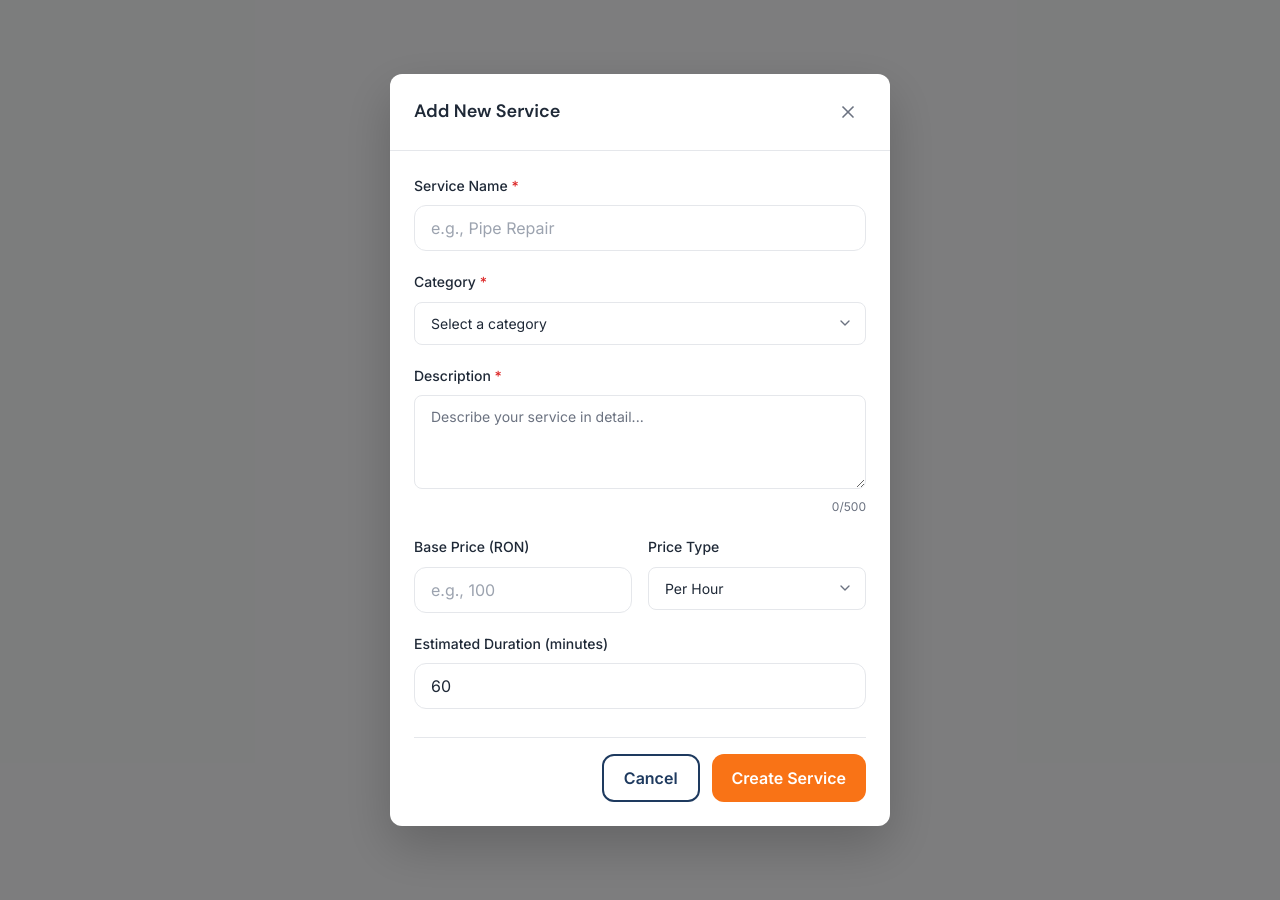
Test: ServiceModal – Create Mode › dezactiveaza butonul submit si afiseaza text de loading in timpul submit
Type "Test" into the field labelled "Service Name *" at (640, 228), box [415, 206, 865, 250]
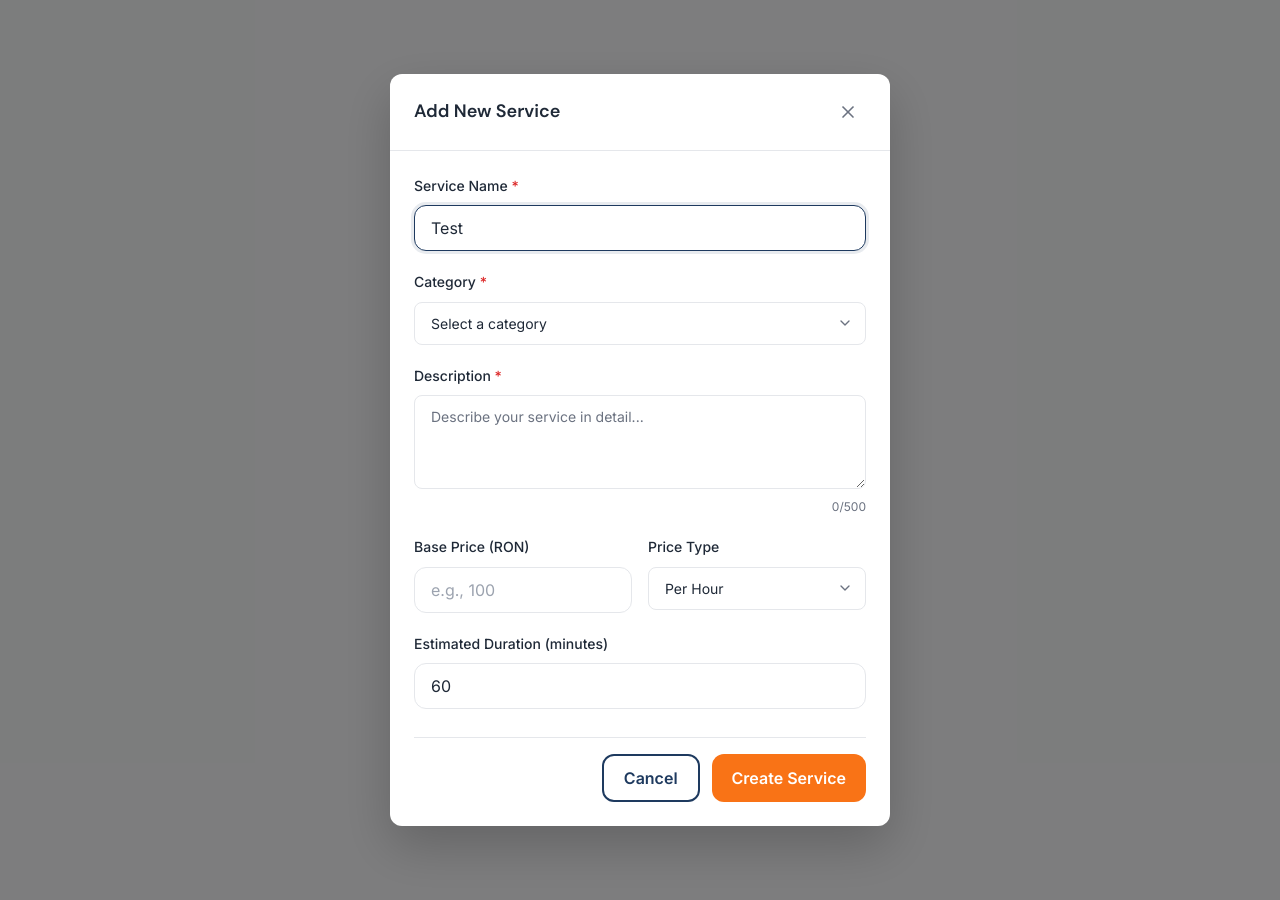
Type "Test description" into the text box labelled "Description *" at (640, 442), box [414, 395, 866, 489]
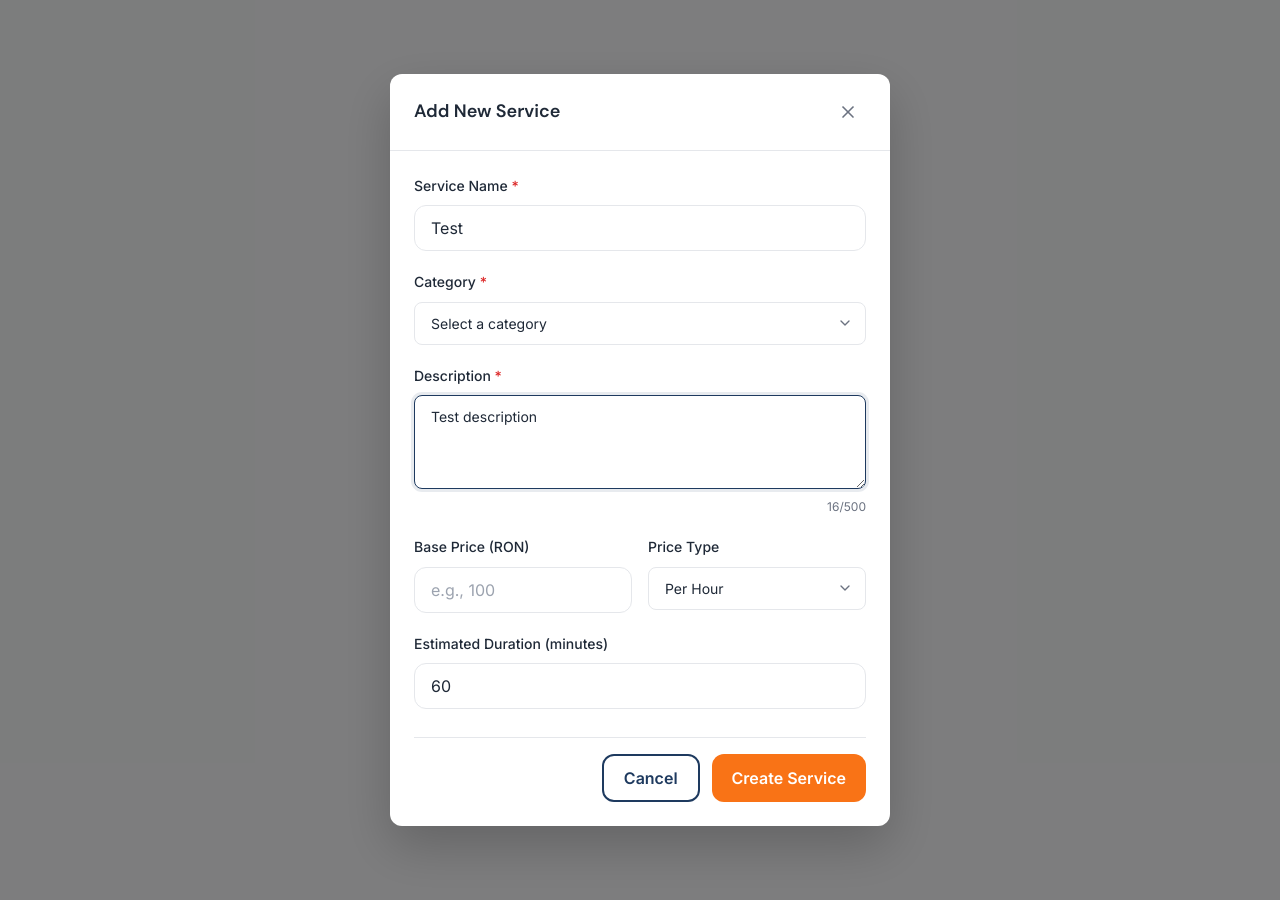
Select "Plumbing" in the dropdown labelled "Category *" at (640, 323), box [414, 302, 866, 345]
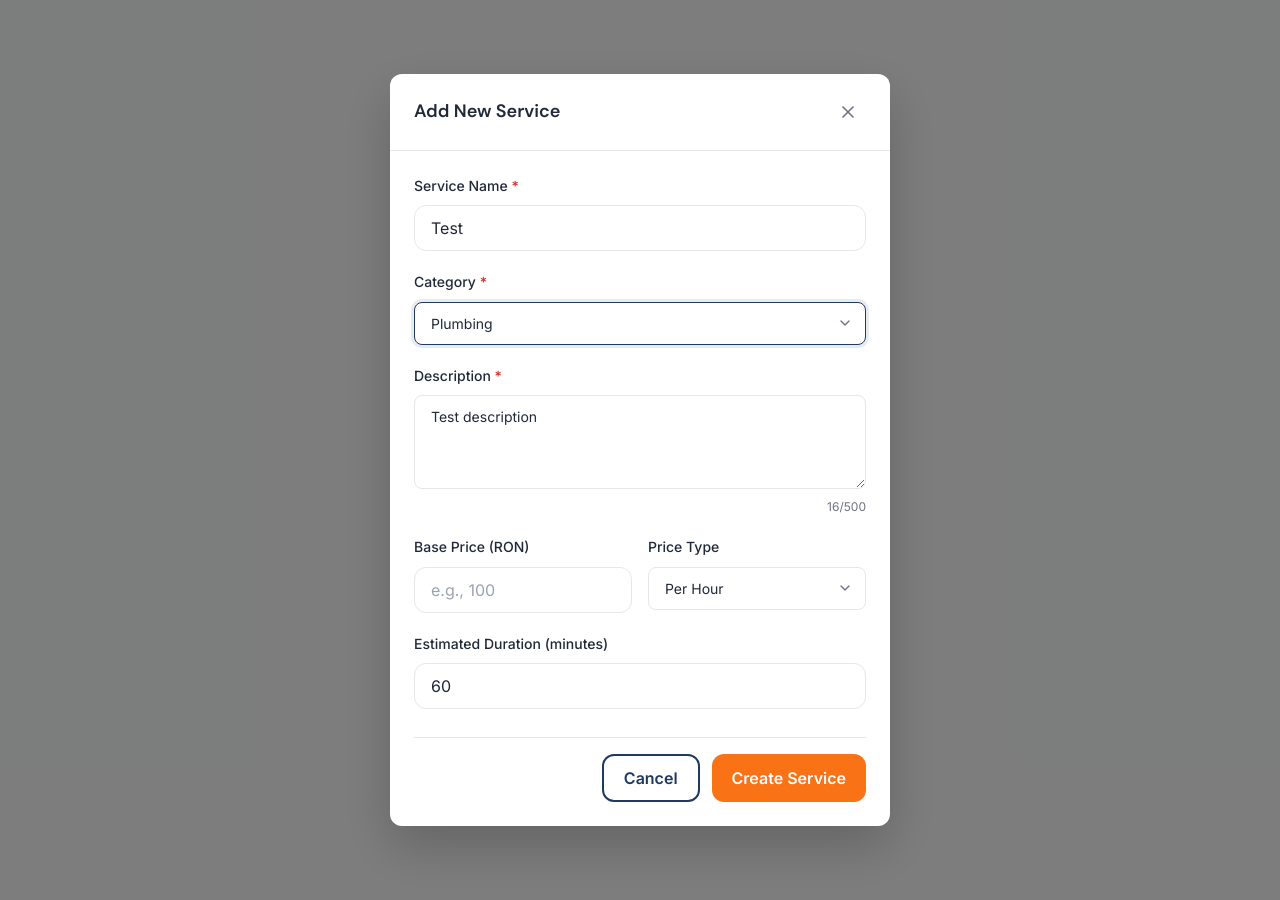
Click the button "Create Service" at (789, 778), box [712, 754, 866, 802]
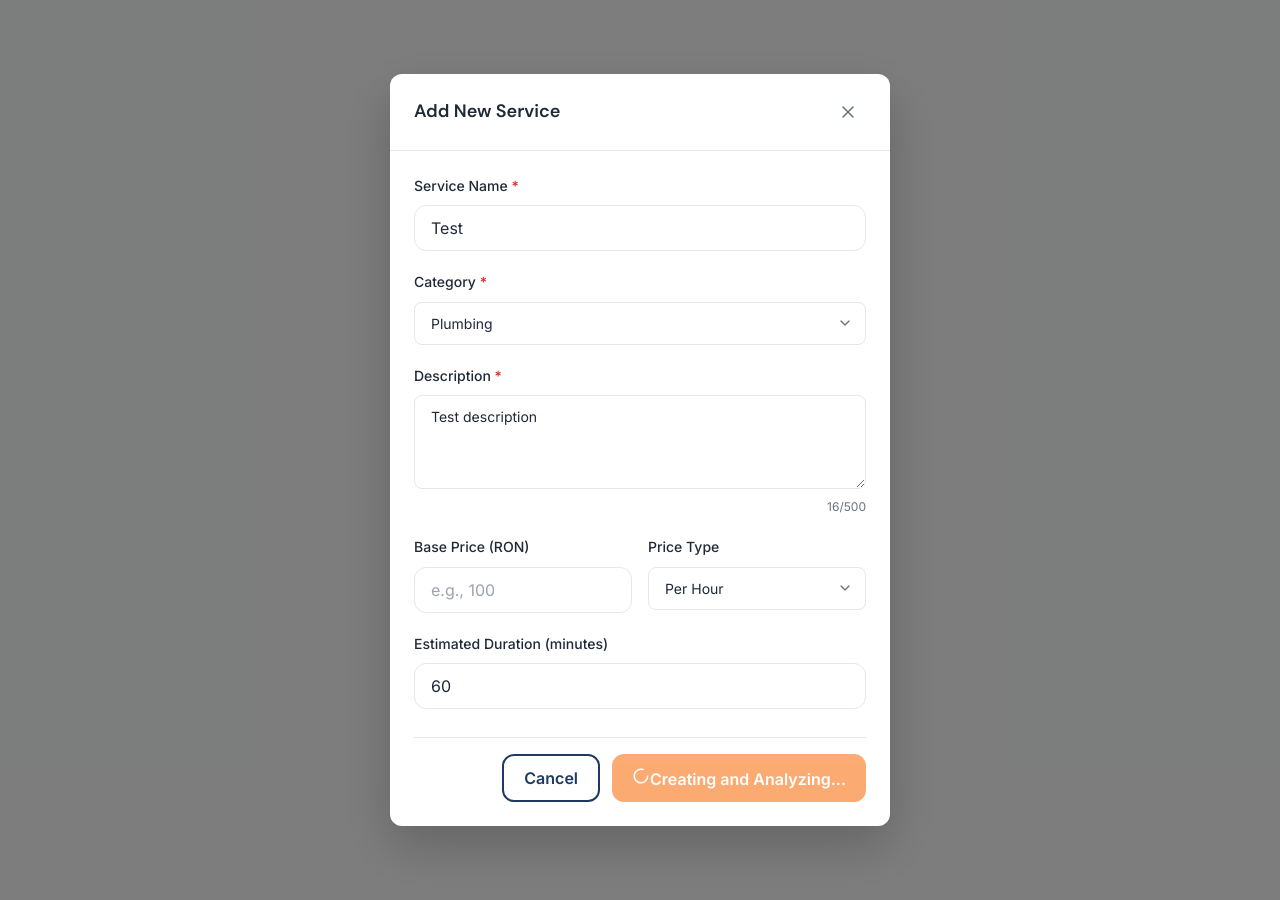
Check: the text "Creating and Analyzing..." is shown, box [632, 767, 846, 789]
